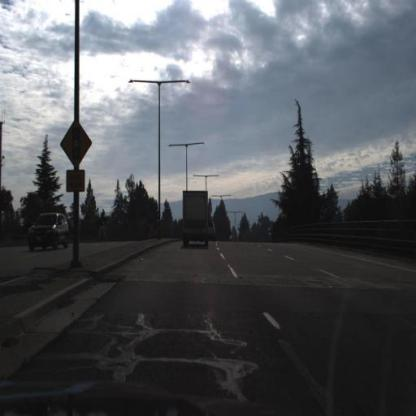car: (29, 214, 69, 253), (208, 218, 218, 241)
truck: (182, 189, 209, 250)
